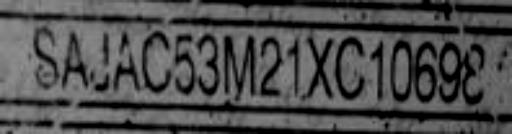letter: (222, 33, 258, 99), (110, 28, 142, 94), (336, 33, 366, 101), (140, 31, 172, 94), (31, 23, 59, 91), (305, 33, 333, 101), (62, 28, 92, 91), (194, 30, 222, 96), (411, 38, 439, 104), (170, 31, 198, 94), (258, 33, 284, 96), (436, 40, 462, 103), (462, 38, 486, 104), (388, 38, 412, 101), (88, 28, 110, 91), (367, 33, 387, 101), (284, 35, 304, 99)
